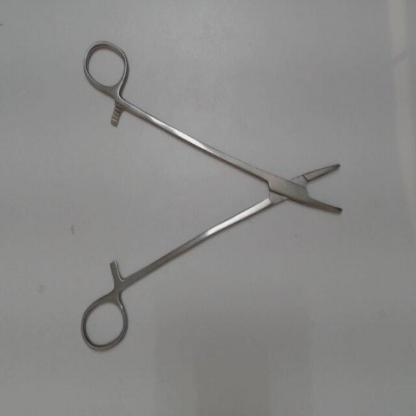8 Mayo Needle Holder: (74, 33, 352, 361)
